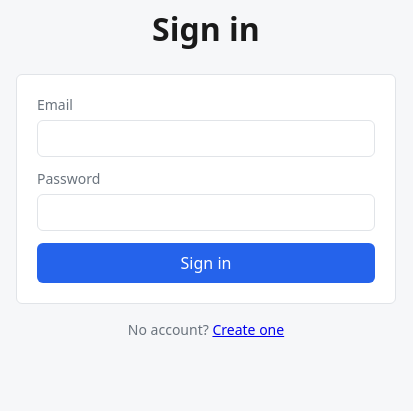
Test case: LoginPage › shows error on 401 and preserves typed email
Type "a@example.com" into the field labelled "Email".
click(206, 138); type("a@example.com")  # box [37,120,375,157]
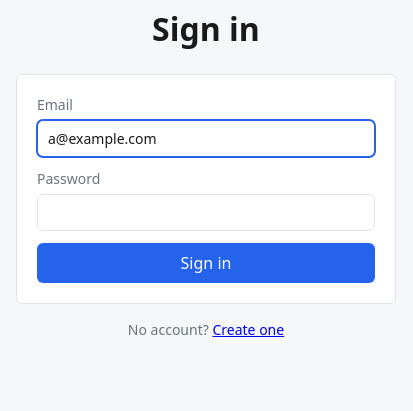
Type "wrongpass" into the password field labelled "Password".
click(206, 212); type("wrongpass")  # box [37,194,375,231]
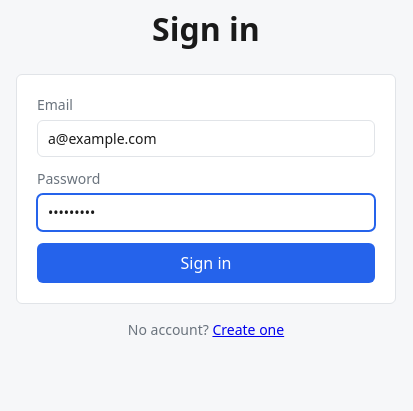
Click the button "Sign in".
click(206, 263)  # box [37,243,375,283]
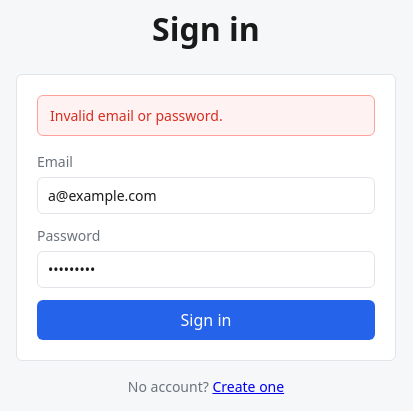
Check: the message shows "Invalid email or password", box [50,106,223,125]
